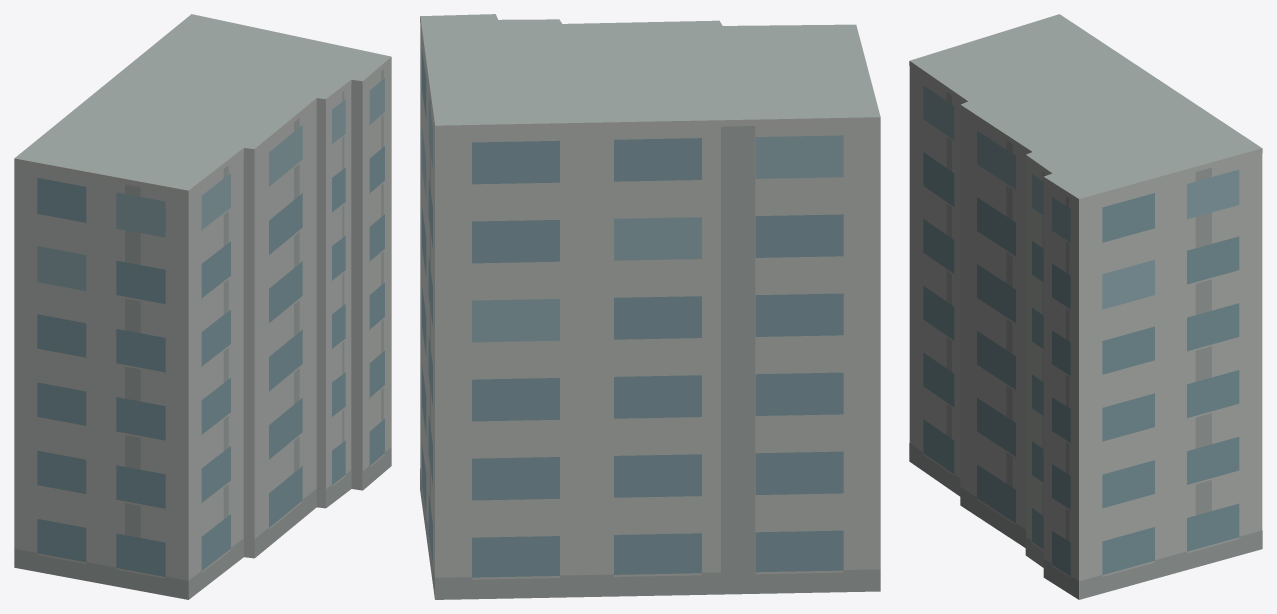
Rendered from survey-upis-32579724.glb.
3 renders of one model, left to right at view 1: azimuth 30°, elevation 25°; view 2: azimuth 150°, elevation 25°; view 3: azimuth 270°, elevation 25°, orthographic. The views are drawn at different scales.
Visible parts, largest first — view 1: survey-upis-32579724.tmp; view 2: survey-upis-32579724.tmp; view 3: survey-upis-32579724.tmp.
Part boxes in pixels (x1,y1,x2,y2): survey-upis-32579724.tmp: (14, 14, 391, 599); survey-upis-32579724.tmp: (420, 14, 880, 599); survey-upis-32579724.tmp: (909, 14, 1262, 599).
Bounding box in the file's own units: 18.04 × 18.2 × 14.54.
